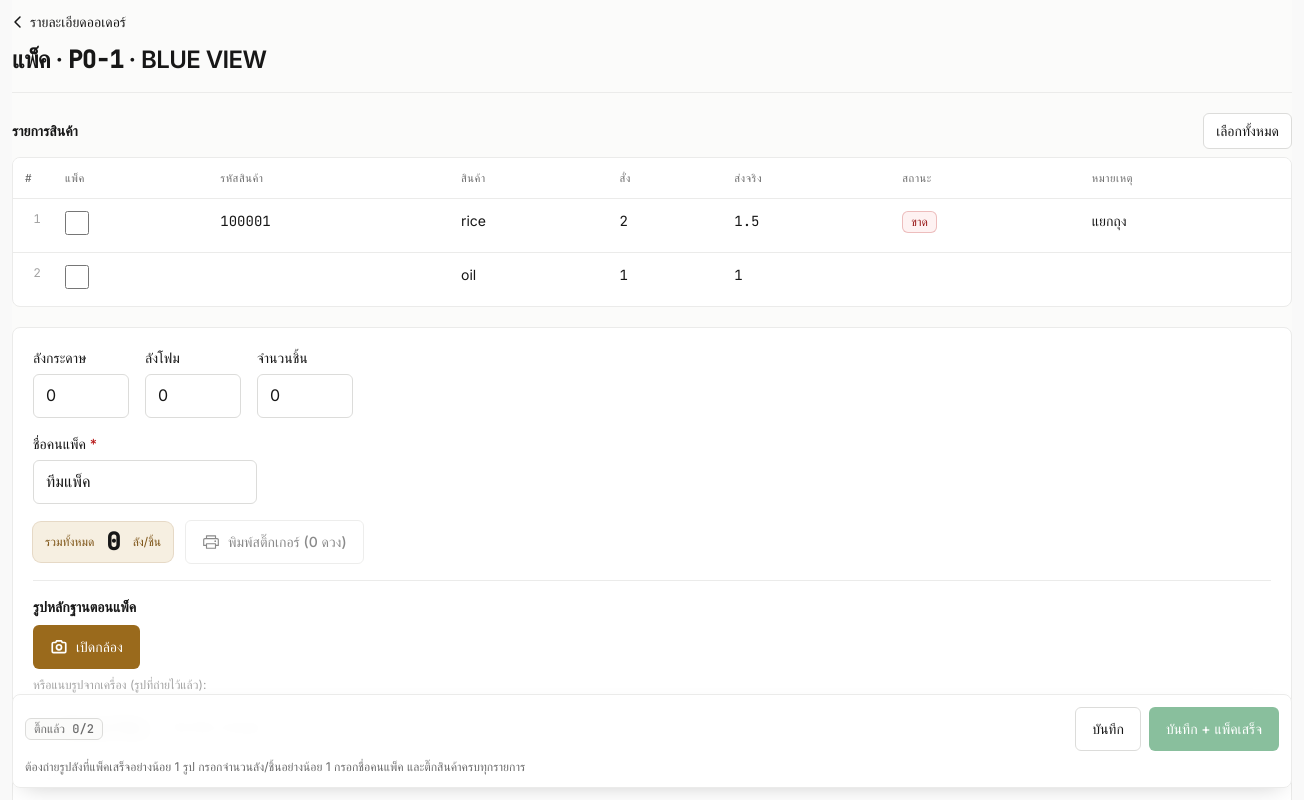
Test: the bottom action bar shows how many items are ticked out of the total
Expected: the text "rice" is shown, [449,198,607,252]
Expected: the text "ติ๊กแล้ว 0/2" is shown, [25,718,103,740]
Click the text "oil" at (469, 274), box [449,252,607,306]
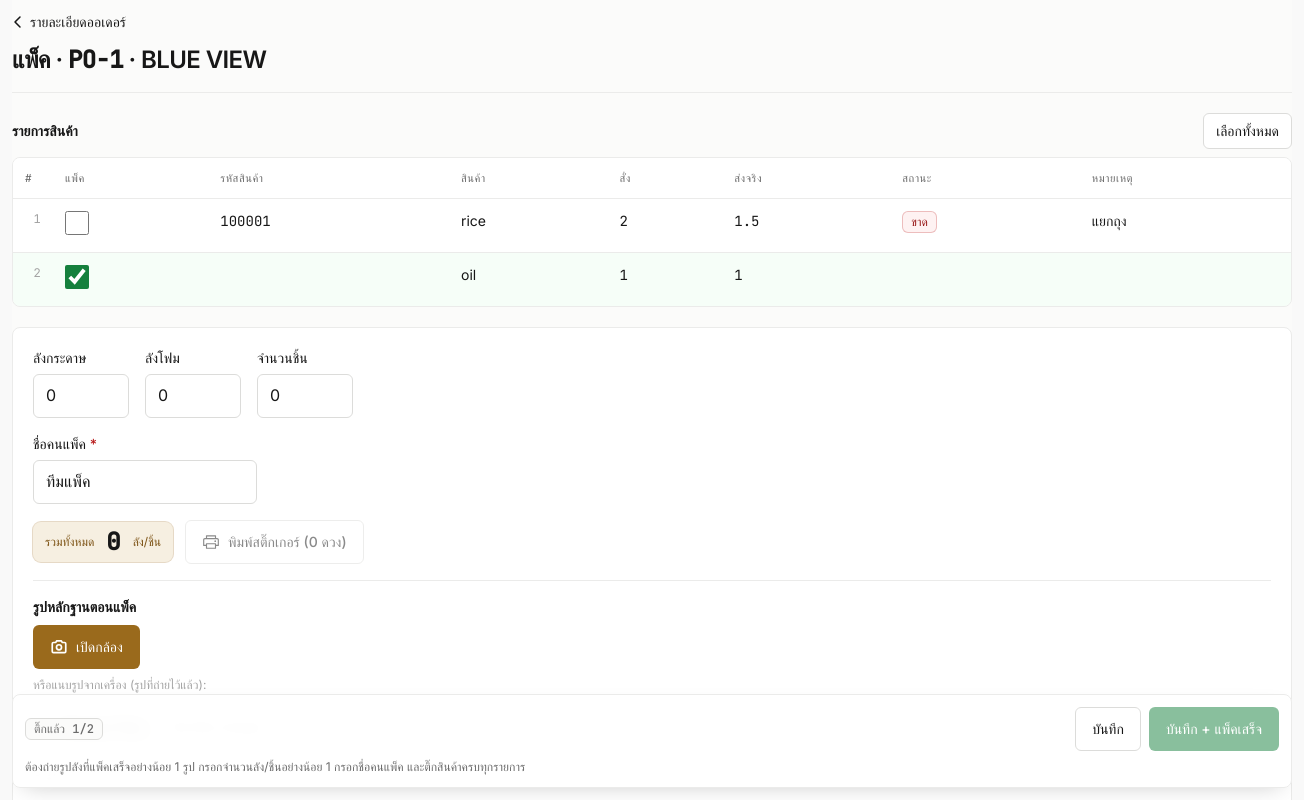
Result: the text "ติ๊กแล้ว 1/2" is shown at [25,718,103,740]
Click the button "เลือกทั้งหมด" at (1248, 131), box [1203,113,1292,149]
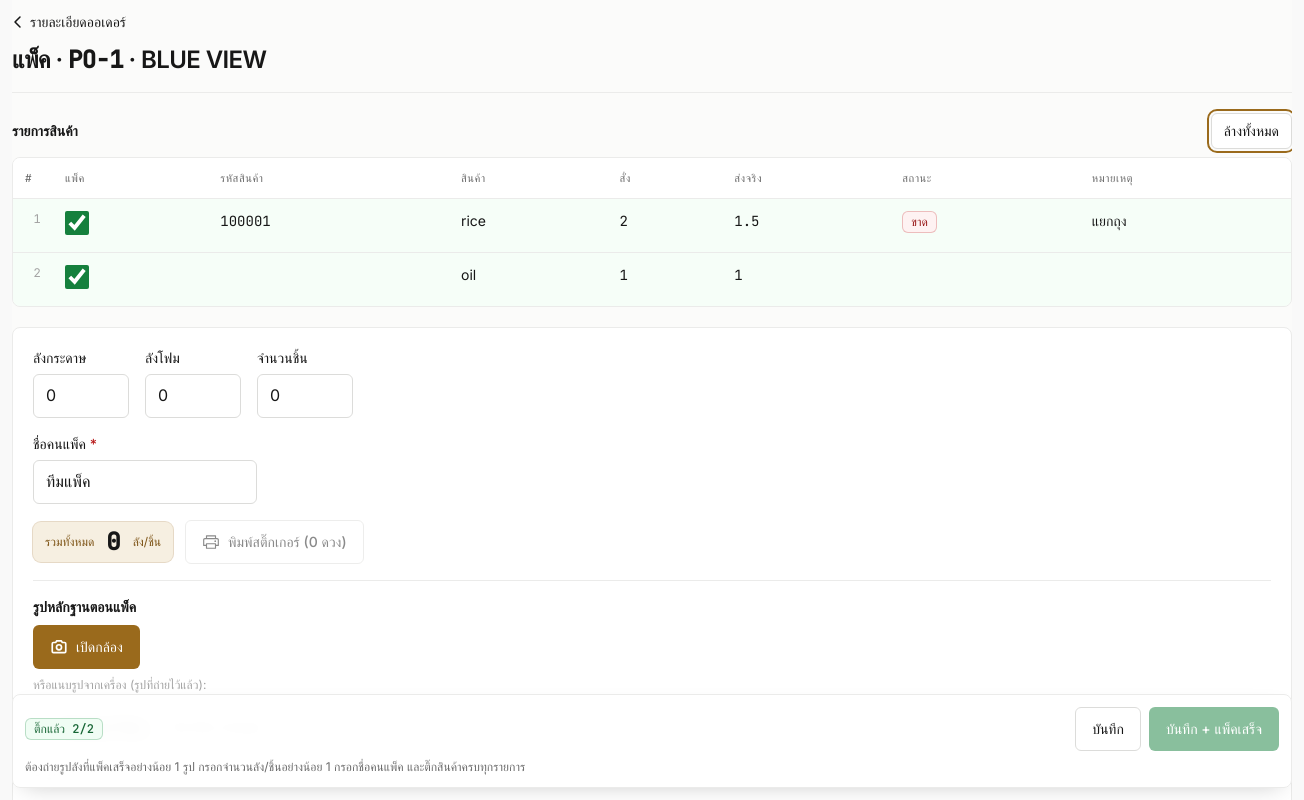
Result: the text "ติ๊กแล้ว 2/2" is shown at [25,718,103,740]
